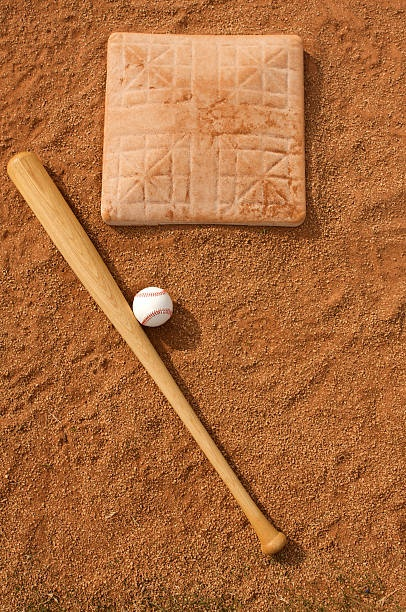bita: (12, 148, 278, 550)
